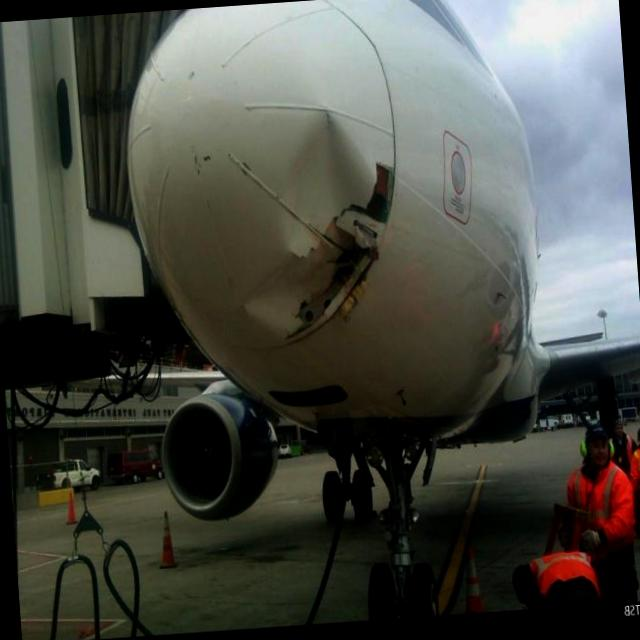dent: (278, 106, 381, 247), (237, 262, 314, 342)
